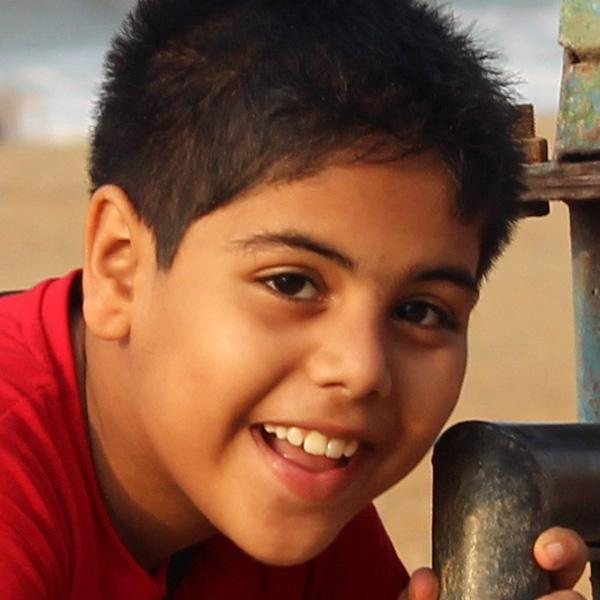Eyes: (238, 247, 332, 314), (385, 285, 453, 341)
